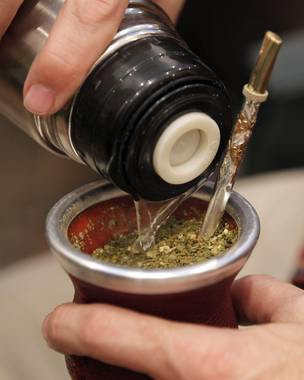guampa: (30, 24, 281, 363)
